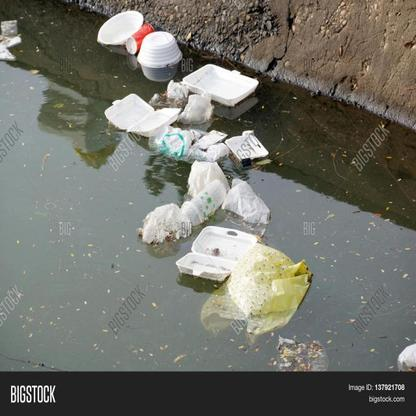can: (127, 23, 155, 53)
foam: (176, 226, 259, 283), (105, 93, 182, 135), (184, 63, 259, 105), (137, 30, 181, 66), (97, 11, 143, 45), (226, 130, 268, 160), (198, 128, 226, 148)
plastic bag: (201, 249, 311, 338), (159, 80, 213, 126), (229, 176, 270, 227), (141, 205, 194, 244), (146, 130, 196, 162)
plastic bottle: (186, 180, 224, 221)
